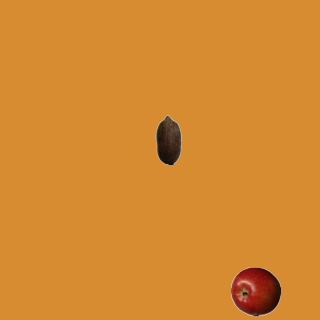Apple Braeburn: (230, 266, 280, 316)
Nut Pecan: (143, 114, 193, 164)
